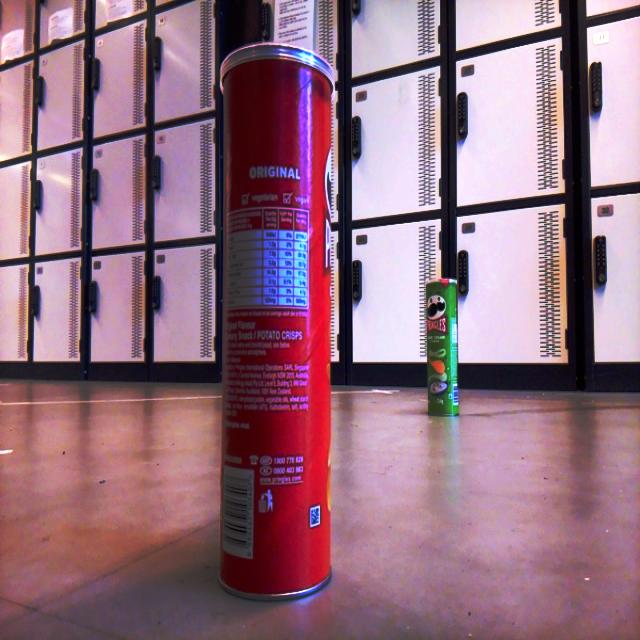greenpringles: (412, 266, 470, 427)
redpringles: (205, 28, 357, 624)
